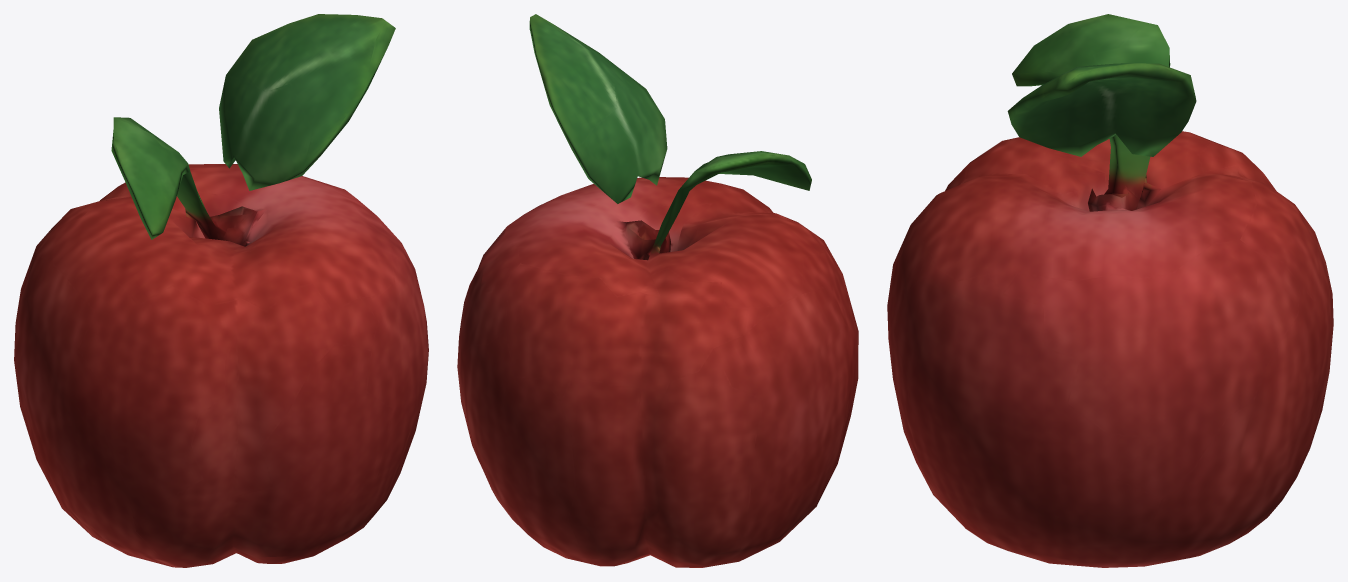
File: gbl.glb
3 renders of one model, left to right at view 1: azimuth 30°, elevation 25°; view 2: azimuth 150°, elevation 25°; view 3: azimuth 270°, elevation 25°, orthographic. The views are drawn at different scales.
Visible parts, largest first — view 1: Object_5; view 2: Object_5; view 3: Object_5.
Boxes of the visible parts, bbox=[...] form: Object_5: bbox=[14, 14, 428, 567]; Object_5: bbox=[457, 14, 858, 567]; Object_5: bbox=[887, 14, 1333, 567].
Bounding box in the file's own units: 0.1097 × 0.1431 × 0.1099.
1 material, 1 textured.
